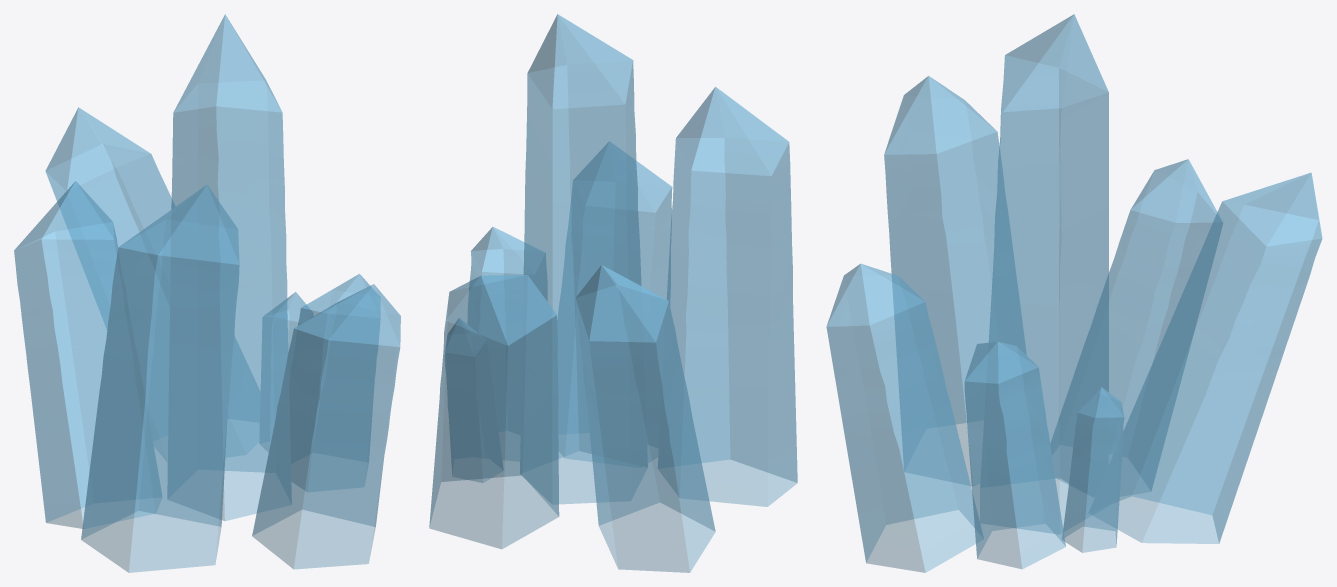
The model's file is Gem.fbx.
The picture shows the model from 3 angles, left to right: view 1: azimuth 30°, elevation 25°; view 2: azimuth 150°, elevation 25°; view 3: azimuth 270°, elevation 25°; orthographic projection. The views are drawn at different scales.
Parts seen in each view (by area): view 1: Gem.001; view 2: Gem.001; view 3: Gem.001.
Boxes of the visible parts, left/top/right/bottom form: Gem.001: left=14, top=14, right=400, bottom=572; Gem.001: left=429, top=14, right=797, bottom=572; Gem.001: left=826, top=14, right=1322, bottom=572.
Bounding box in the file's own units: 90.96 × 145 × 124.
